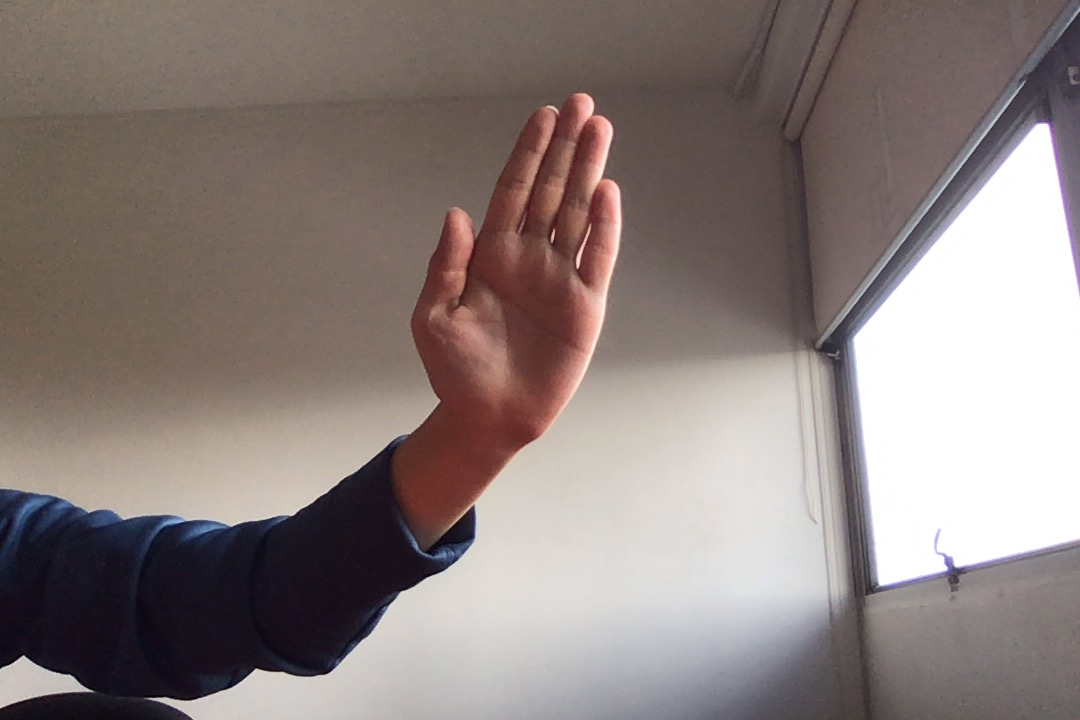palmhand: (401, 85, 628, 453)
